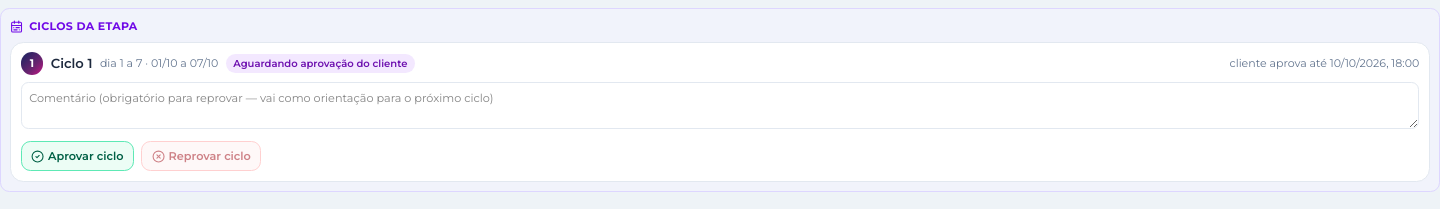
Test: Ciclos da etapa (projeto) › o cliente aprova ou reprova; reprovar só habilita com comentário (vai como orientação do próximo ciclo)
The image size is (1440, 209).
Later steps or results of the test are not shown.
Check: the button with test id "cycle-reject" is disabled, box [141, 141, 261, 171]
Step 1. Replace the text in the text box named "Comentário do ciclo 1" with "Faltou o custo por lead" → (720, 106), box [21, 82, 1419, 129]
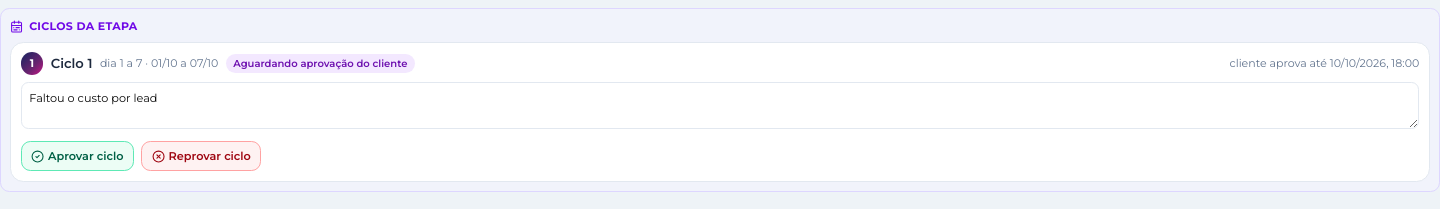
Check: the button with test id "cycle-reject" is enabled, box [141, 141, 261, 171]
